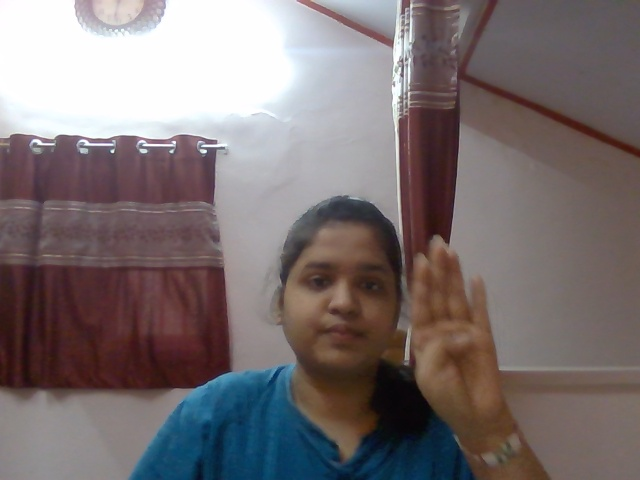b: (394, 237, 514, 425)
